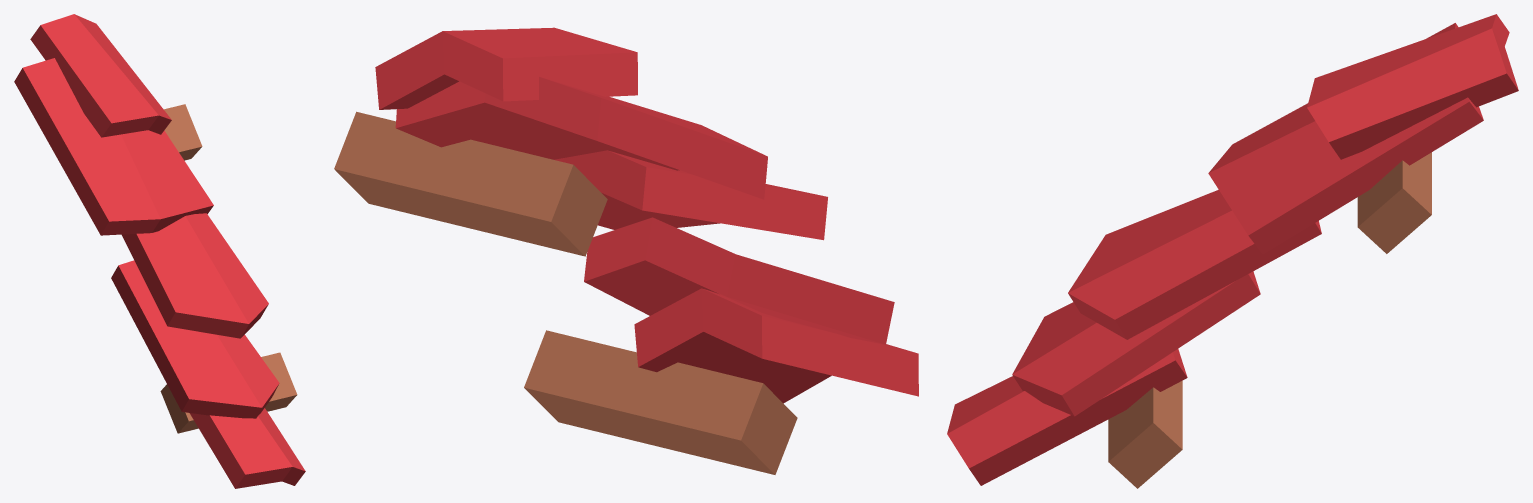
Rendered from Roof 01 Finish Side 02.fbx.
The picture shows the model from 3 angles, left to right: view 1: azimuth 30°, elevation 25°; view 2: azimuth 150°, elevation 25°; view 3: azimuth 270°, elevation 25°; orthographic projection. The views are drawn at different scales.
Parts seen in each view (by area): view 1: Roof 01 Finish Side 02; view 2: Roof 01 Finish Side 02; view 3: Roof 01 Finish Side 02.
Part boxes in pixels (x1,y1,x2,y2): Roof 01 Finish Side 02: (14,14,305,488); Roof 01 Finish Side 02: (334,27,918,474); Roof 01 Finish Side 02: (947,14,1518,488).
Size of the model in its own units: 92.4 by 203 by 239.
